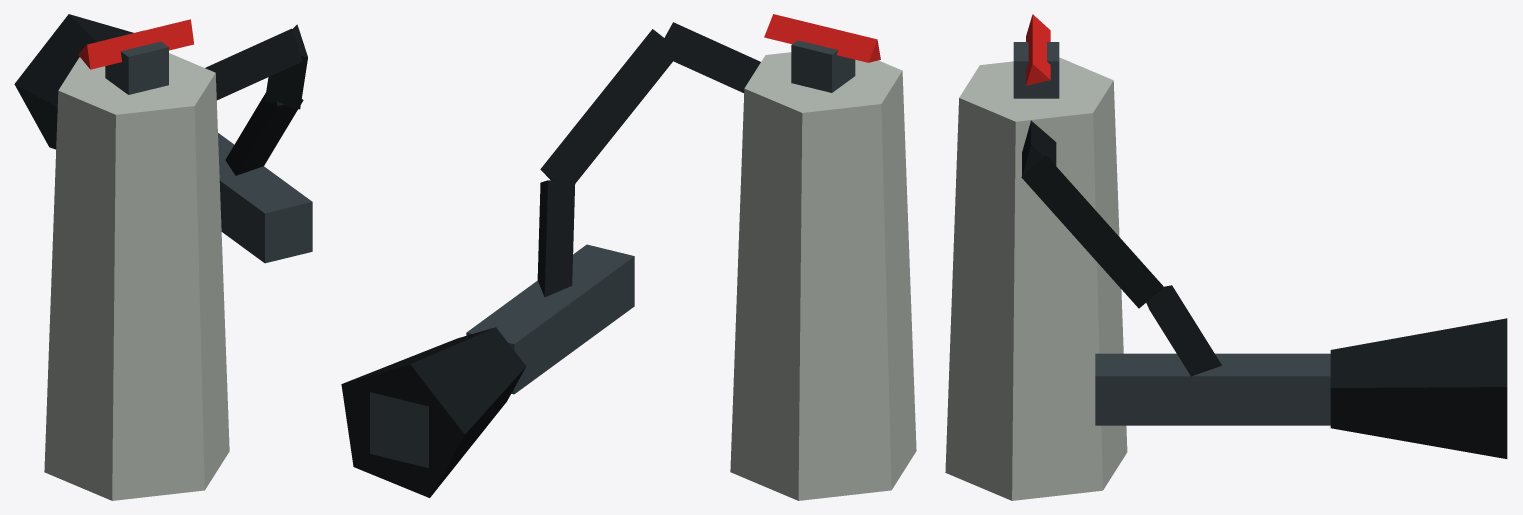
3 views of the same model, side by side, from view 1: azimuth 30°, elevation 25°; view 2: azimuth 150°, elevation 25°; view 3: azimuth 270°, elevation 25° (orthographic). The views are drawn at different scales.
Visible parts, largest first — view 1: mount; view 2: mount; view 3: mount.
Part boxes in pixels (x1,y1,x2,y2): mount: (14,14,312,500); mount: (341,14,916,500); mount: (945,14,1507,500).
Size of the model in its own units: 6.17 by 7.94 by 9.57.
